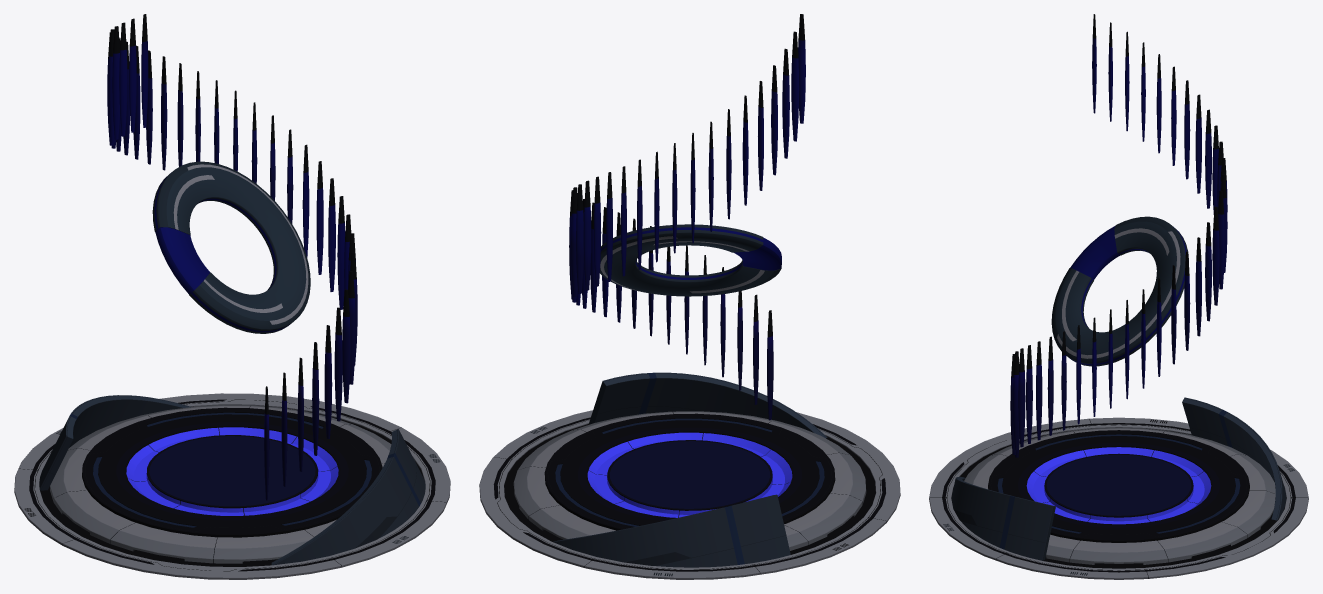
The model's file is W_O_Landmark_001_L0.fbx.
3 renders of one model, left to right at view 1: azimuth 30°, elevation 25°; view 2: azimuth 150°, elevation 25°; view 3: azimuth 270°, elevation 25°, orthographic. The views are drawn at different scales.
Parts seen in each view (by area): view 1: W_O_Landmark_001_L0; view 2: W_O_Landmark_001_L0; view 3: W_O_Landmark_001_L0.
Boxes of the visible parts, <box> form: W_O_Landmark_001_L0: <box>14,14,450,579</box>; W_O_Landmark_001_L0: <box>479,14,900,579</box>; W_O_Landmark_001_L0: <box>929,14,1308,579</box>.
Size of the model in its own units: 8.6 by 8.6 by 11.04.
